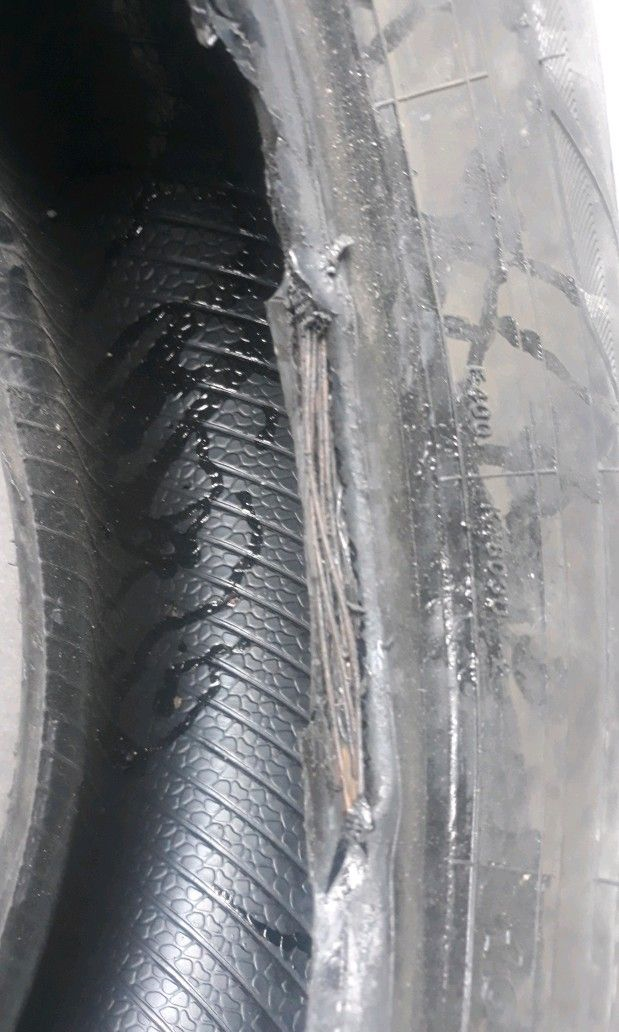bead_damage: (189, 5, 395, 915)
